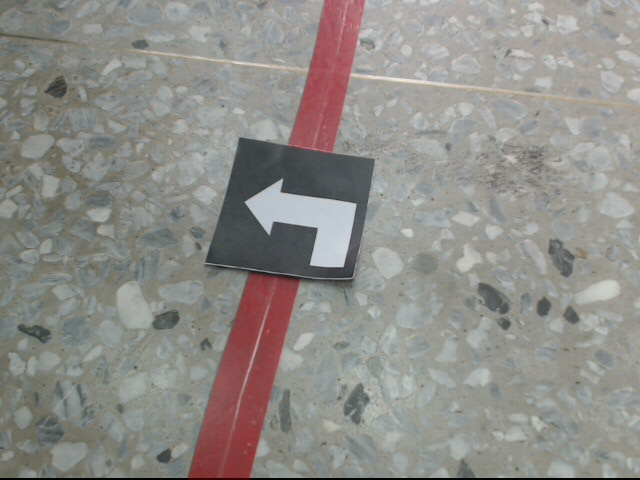left: (202, 131, 377, 285)
